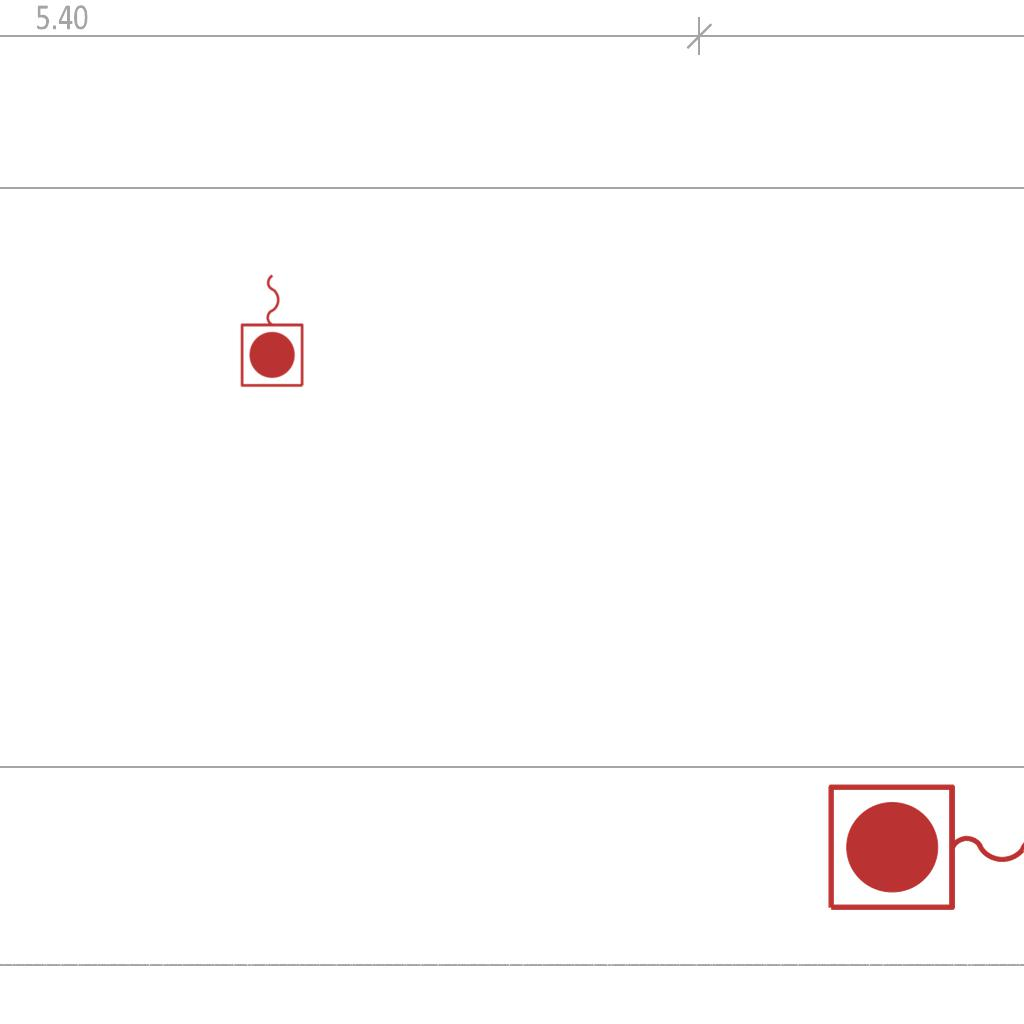Zugtaster: (820, 777, 1024, 921), (237, 269, 309, 391)
